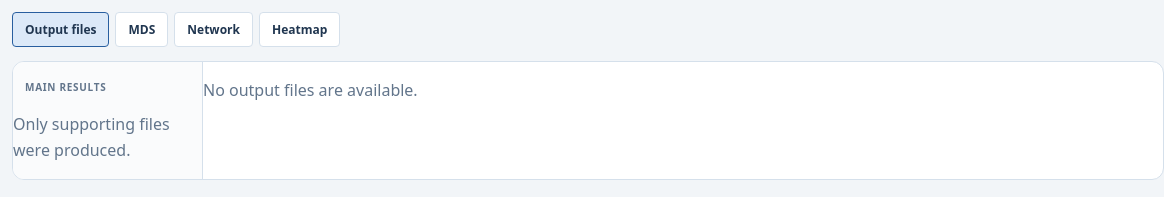
Scenario: explains missing exports and does not offer cohort views for patient runs
The image size is (1164, 197).
Click the button "Network": (214, 30) [174, 12, 253, 47]
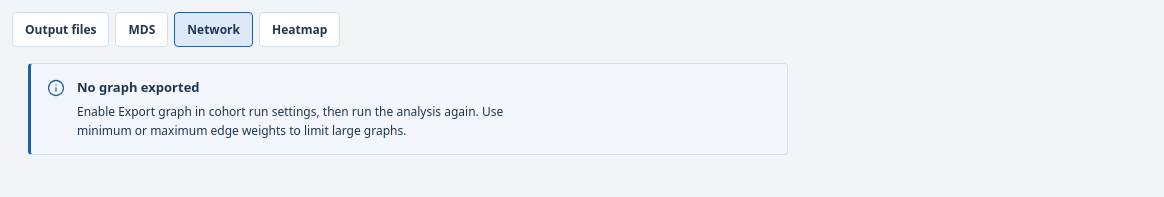
expect the text "Enable Export graph" is shown: met, box [77, 103, 503, 139]
